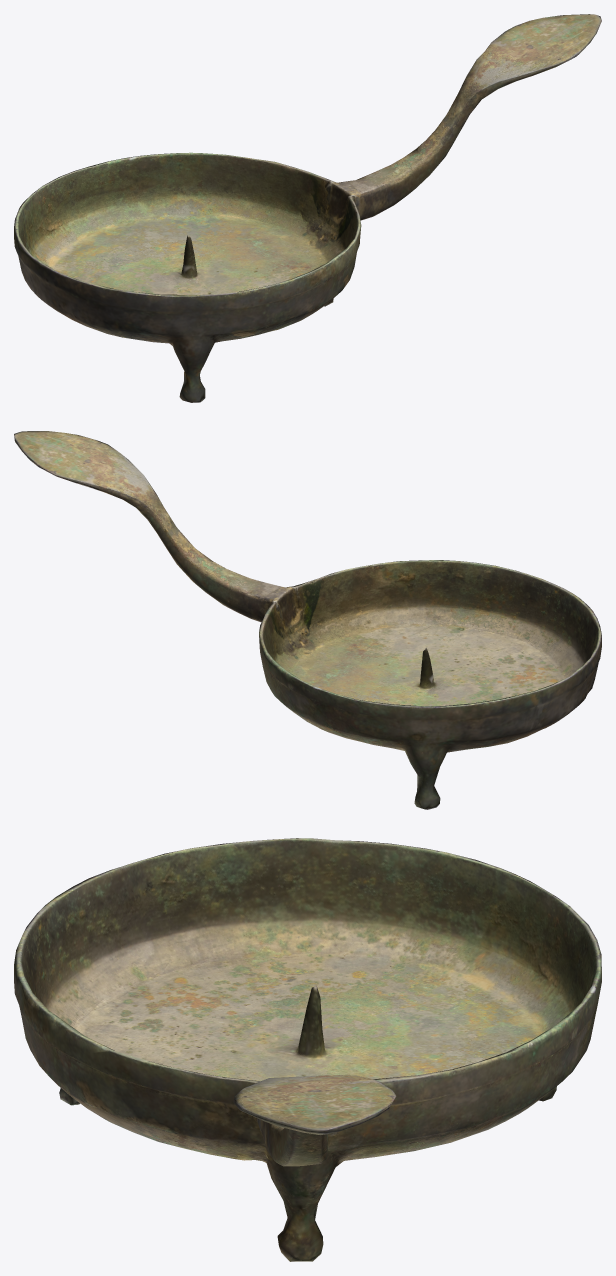
Rendered from SM_Lamp.fbx.
3 renders of one model, top to bottom at view 1: azimuth 30°, elevation 25°; view 2: azimuth 150°, elevation 25°; view 3: azimuth 270°, elevation 25°, orthographic. The views are drawn at different scales.
Parts seen in each view (by area): view 1: KCDF_2022_prop_Lamp_Mesh; view 2: KCDF_2022_prop_Lamp_Mesh; view 3: KCDF_2022_prop_Lamp_Mesh.
Part boxes in pixels (x1,y1,x2,y2): KCDF_2022_prop_Lamp_Mesh: (14, 14, 601, 402); KCDF_2022_prop_Lamp_Mesh: (14, 431, 601, 809); KCDF_2022_prop_Lamp_Mesh: (14, 838, 601, 1261).
Size of the model in its own units: 52.62 by 19.01 by 27.72.
1 material, 1 textured.
